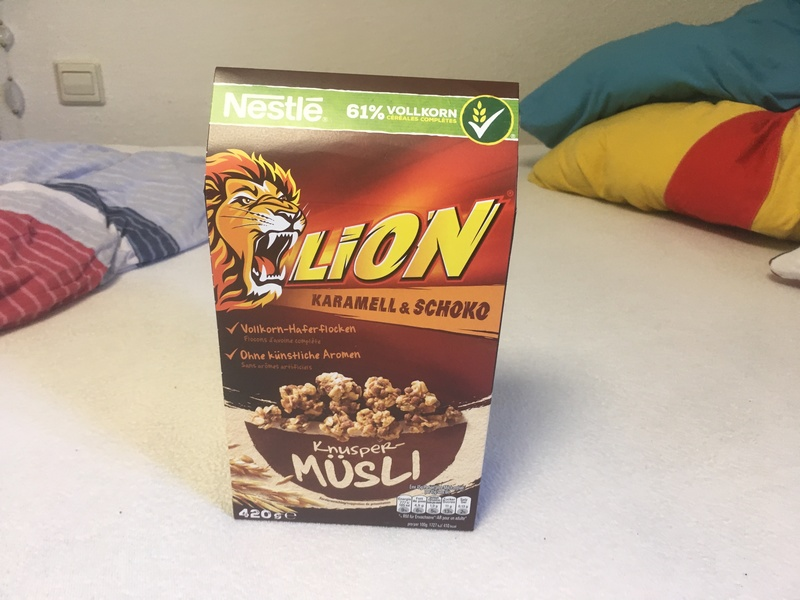cereals: (205, 66, 518, 532)
